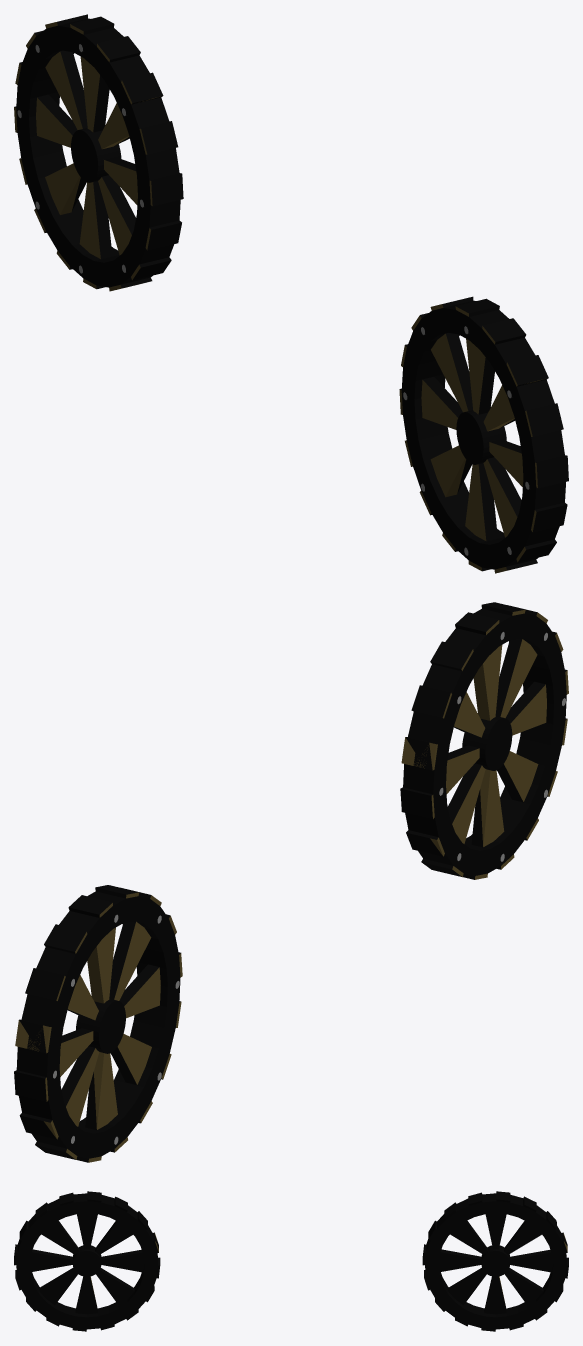
File: WheelsCar.glb
3 views of the same model, one above another, from view 1: azimuth 30°, elevation 25°; view 2: azimuth 150°, elevation 25°; view 3: azimuth 270°, elevation 25° (orthographic). The views are drawn at different scales.
Visible parts, largest first — view 1: WheelFront, WheelBack; view 2: WheelFront, WheelBack; view 3: WheelFront, WheelBack.
Part boxes in pixels (x1,y1,x2,y2): WheelFront: [14, 14, 183, 291]; WheelBack: [399, 296, 568, 573]; WheelFront: [14, 885, 182, 1162]; WheelBack: [400, 602, 568, 879]; WheelFront: [422, 1191, 568, 1331]; WheelBack: [14, 1191, 160, 1331].
Size of the model in its own units: 0.1182 by 0.8276 by 3.14.
